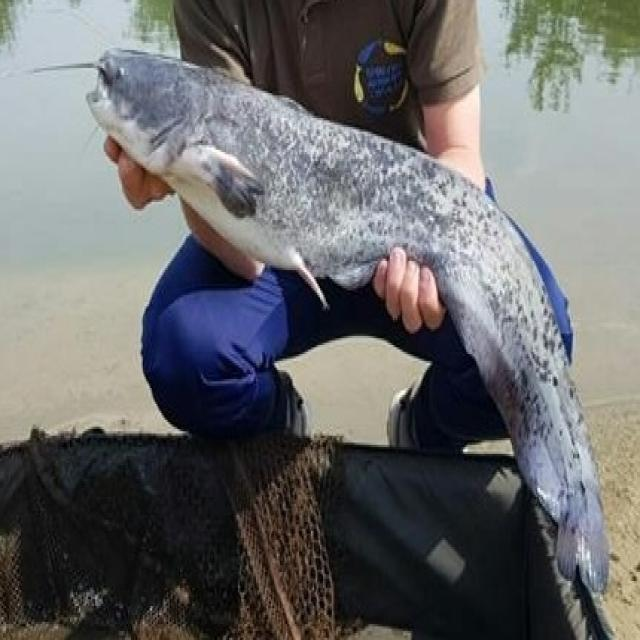Catfish: (31, 21, 640, 610)
